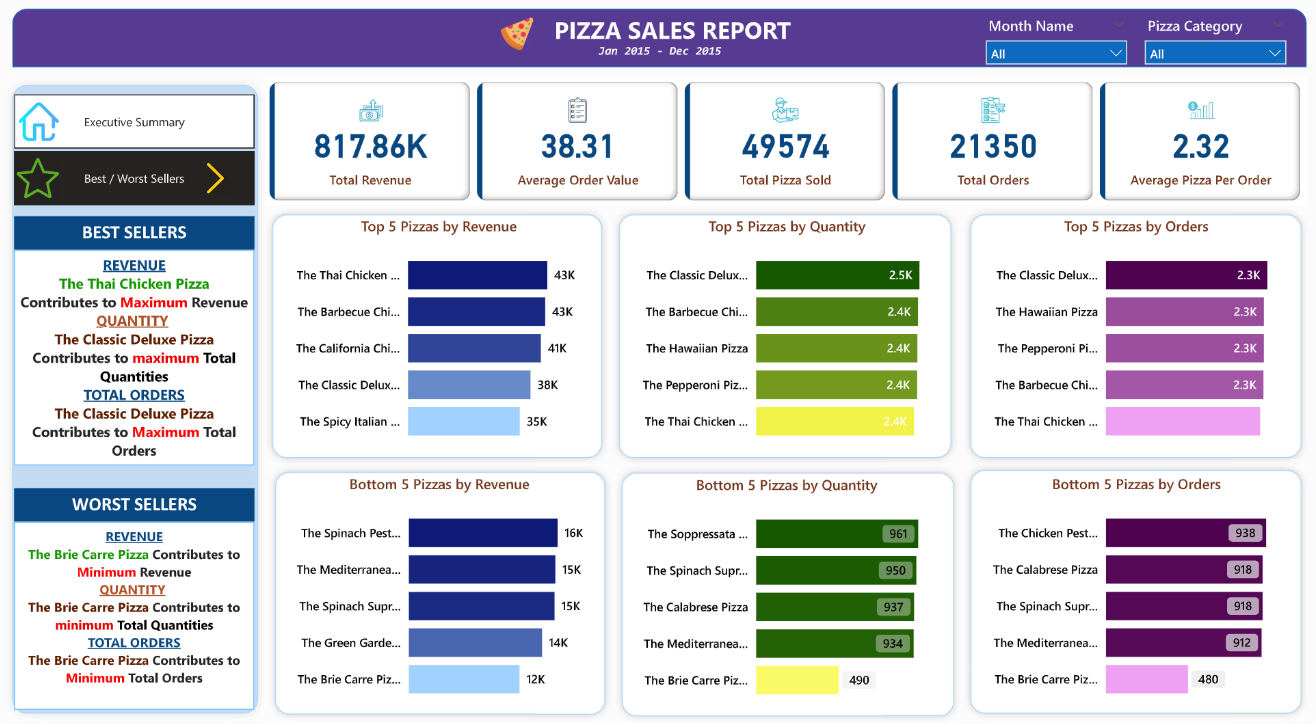

This screenshot's page, from the dashboard's own definition file:
{"tool":"powerbi","page":{"name":"Best / Worst Sellers","canvas":[1500,820],"ordinal":1},"visuals":[{"type":"shape","box":[8.2,88.6,293.6,728.2],"z":0},{"type":"cardVisual","fields":{"Data":["Calculated Measures.Total Revenue","Calculated Measures.Average Order Value","Calculated Measures.Total Pizza Sold","Calculated Measures.Total Orders","Calculated Measures.Average Pizza Per Order"]},"box":[301.8,88.6,1179.2,144.3],"z":1000},{"type":"shape","box":[16.4,11.5,1464.5,65.6],"z":2000},{"type":"textbox","box":[606.8,11.5,313.2,65.6],"z":3000},{"type":"textbox","box":[611.7,44.3,273.9,32.8],"z":4000},{"type":"image","box":[562.5,14.8,49.2,49.2],"z":5000},{"type":"shape","box":[301.8,236.2,390.3,291.9],"z":6000},{"type":"shape","box":[695.4,236.2,392,291.9],"z":7000},{"type":"shape","box":[1092.2,236.2,390.3,291.9],"z":8000},{"type":"textbox","box":[18,246,272.2,37.7],"z":9000},{"type":"textbox","box":[18,283.7,272.2,244.4],"z":10000},{"type":"textbox","box":[18,554.3,272.2,37.7],"z":11000},{"type":"textbox","box":[18,592,272.2,213.2],"z":12000},{"type":"slicer","fields":{"Values":["Pizza Category Key.Pizza Category"]},"box":[1287.5,14.2,180,61.7],"z":13000},{"type":"slicer","fields":{"Values":["Date.Month_Name"]},"box":[1107.5,14.2,180,61.7],"z":14000},{"type":"shape","box":[305,526.5,390.3,291.9],"z":15000},{"type":"shape","box":[697.8,528.1,392,291.9],"z":16000},{"type":"shape","box":[1092.2,524.8,390.3,291.9],"z":17000},{"type":"barChart","title":"Top 5 Pizzas by Revenue","fields":{"Category":["Pizza Name Dim.Pizza Name"],"Y":["Calculated Measures.Total Revenue"]},"box":[320,246,358,271],"z":18000},{"type":"barChart","title":"Bottom 5 Pizzas by Revenue","fields":{"Category":["Pizza Name Dim.Pizza Name"],"Y":["Calculated Measures.Total Revenue"]},"box":[319.8,537.9,359.2,270.6],"z":19000},{"type":"barChart","title":"Top 5 Pizzas by Quantity","fields":{"Category":["Pizza Name Dim.Pizza Name"],"Y":["Calculated Measures.Total Pizza Sold"]},"box":[713.4,246,359.2,270.6],"z":20000},{"type":"barChart","title":"Bottom 5 Pizzas by Quantity","fields":{"Category":["Pizza Name Dim.Pizza Name"],"Y":["Calculated Measures.Total Pizza Sold"]},"box":[713.3,538.9,358.9,271.1],"z":21000},{"type":"barChart","title":"Top 5 Pizzas by Orders","fields":{"Category":["Pizza Name Dim.Pizza Name"],"Y":["Calculated Measures.Total Orders"]},"box":[1108.6,246,359.2,270.6],"z":22000},{"type":"barChart","title":"Bottom 5 Pizzas by Orders","fields":{"Category":["Pizza Name Dim.Pizza Name"],"Y":["Calculated Measures.Total Orders"]},"box":[1108.6,537.9,359.2,270.6],"z":23000},{"type":"pageNavigator","box":[18,172.2,272.2,60.7],"z":24000},{"type":"pageNavigator","box":[18,108.2,272.2,60.7],"z":25000},{"type":"image","box":[18,108.2,55.8,60.7],"z":27000},{"type":"image","box":[16.4,172.2,57.4,60.7],"z":28000},{"type":"image","box":[202.3,115.3,88.7,46.1],"z":28001}]}

Visuals, with their boxes in screenshot pixels (x1, y1, x2, y2), scaled from the page's 1500x820 canvas onto the 1316x727 screenshot:
shape: 7:79:265:724
cardVisual - Calculated Measures.Total Revenue x Calculated Measures.Average Order Value: 265:79:1299:206
shape: 14:10:1299:68
textbox: 532:10:807:68
textbox: 537:39:777:68
image: 494:13:537:57
shape: 265:209:607:468
shape: 610:209:954:468
shape: 958:209:1301:468
textbox: 16:218:255:252
textbox: 16:252:255:468
textbox: 16:491:255:525
textbox: 16:525:255:714
slicer - Pizza Category Key.Pizza Category: 1130:13:1287:67
slicer - Date.Month_Name: 972:13:1130:67
shape: 268:467:610:726
shape: 612:468:956:726
shape: 958:465:1301:724
"Top 5 Pizzas by Revenue" barChart: 281:218:595:458
"Bottom 5 Pizzas by Revenue" barChart: 281:477:596:717
"Top 5 Pizzas by Quantity" barChart: 626:218:941:458
"Bottom 5 Pizzas by Quantity" barChart: 626:478:941:718
"Top 5 Pizzas by Orders" barChart: 973:218:1288:458
"Bottom 5 Pizzas by Orders" barChart: 973:477:1288:717
pageNavigator: 16:153:255:206
pageNavigator: 16:96:255:150
image: 16:96:65:150
image: 14:153:65:206
image: 177:102:255:143
